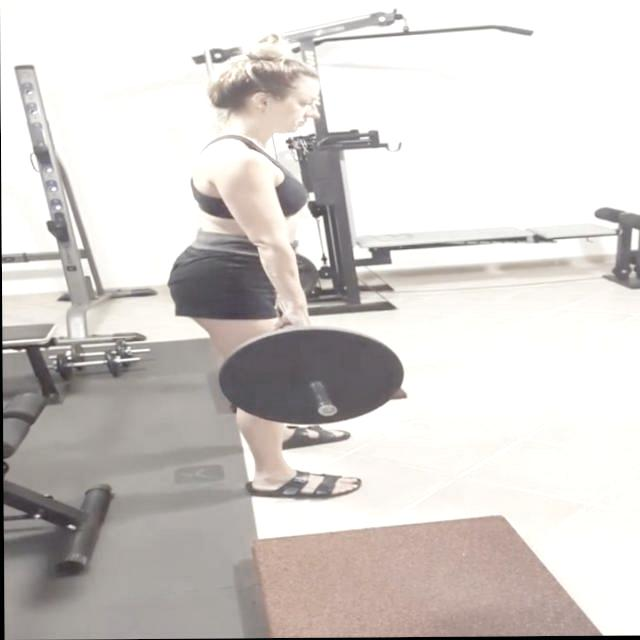barbell: (212, 324, 404, 429)
